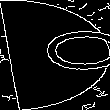O_W: (5, 31, 105, 79)
